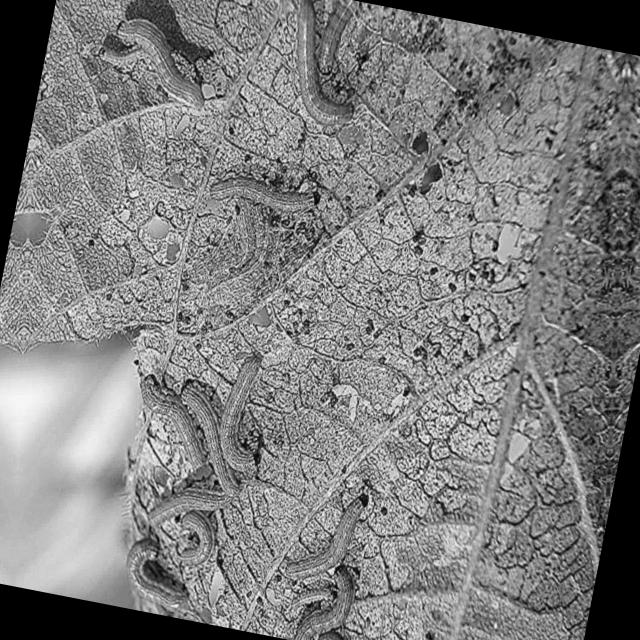Armyworm: (95, 1, 227, 128), (116, 357, 238, 490), (274, 1, 376, 150), (197, 358, 289, 493), (160, 376, 253, 503), (206, 166, 344, 245), (287, 479, 367, 585), (107, 526, 197, 620), (297, 562, 366, 640), (156, 480, 244, 535), (95, 33, 147, 89), (319, 1, 355, 69)
Armyworm_damage: (5, 174, 66, 284), (112, 176, 187, 248), (163, 225, 193, 276)
